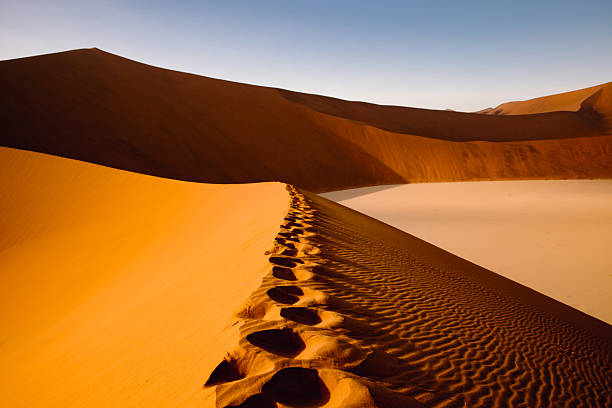human_footprint: (207, 197, 378, 407), (246, 327, 304, 356), (280, 307, 320, 325), (266, 285, 303, 304)
